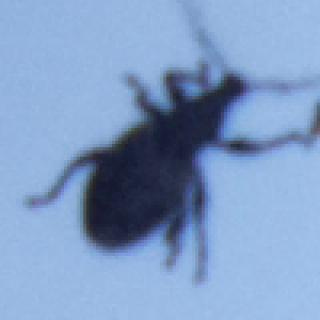bvw: (22, 1, 320, 283)
